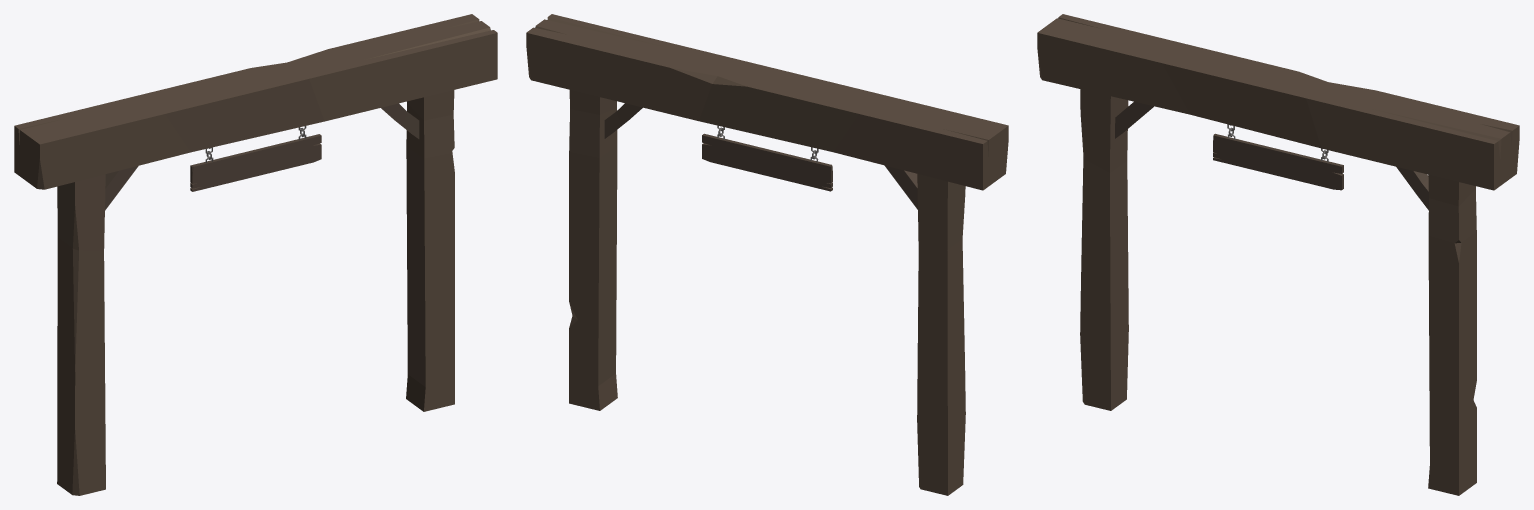
The model's file is SM_Props_Farm_Entrance_02.fbx.
3 views of the same model, side by side, from view 1: azimuth 30°, elevation 25°; view 2: azimuth 150°, elevation 25°; view 3: azimuth 330°, elevation 25° (orthographic).
Visible parts, largest first — view 1: SM_Props_Farm_Entrance_02; view 2: SM_Props_Farm_Entrance_02; view 3: SM_Props_Farm_Entrance_02.
Part boxes in pixels (<box>): SM_Props_Farm_Entrance_02: <box>14,14,497,495</box>; SM_Props_Farm_Entrance_02: <box>526,14,1008,495</box>; SM_Props_Farm_Entrance_02: <box>1037,14,1519,495</box>.
Bounding box in the file's own units: 630 × 480 × 61.17.
